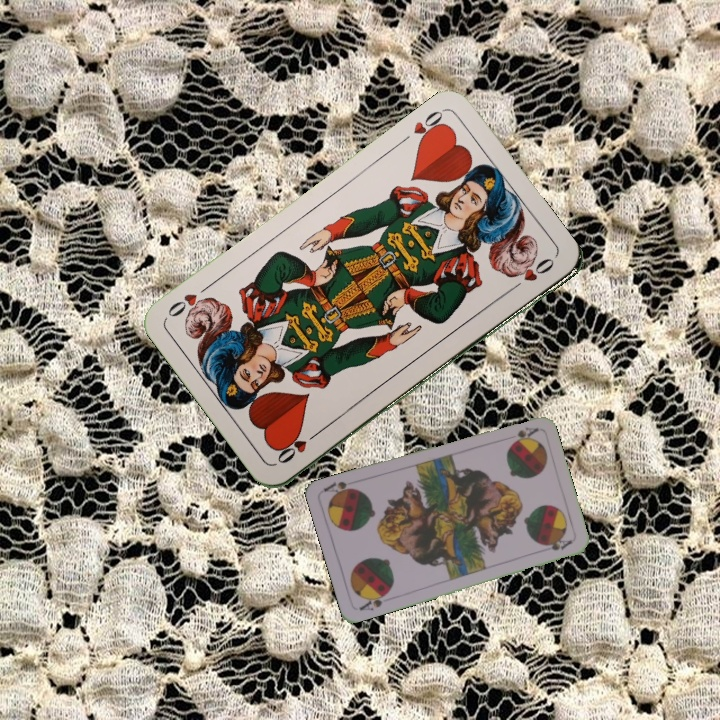HO: (273, 426, 324, 467), (409, 105, 450, 149)
SA: (355, 588, 392, 613), (510, 423, 540, 444)
